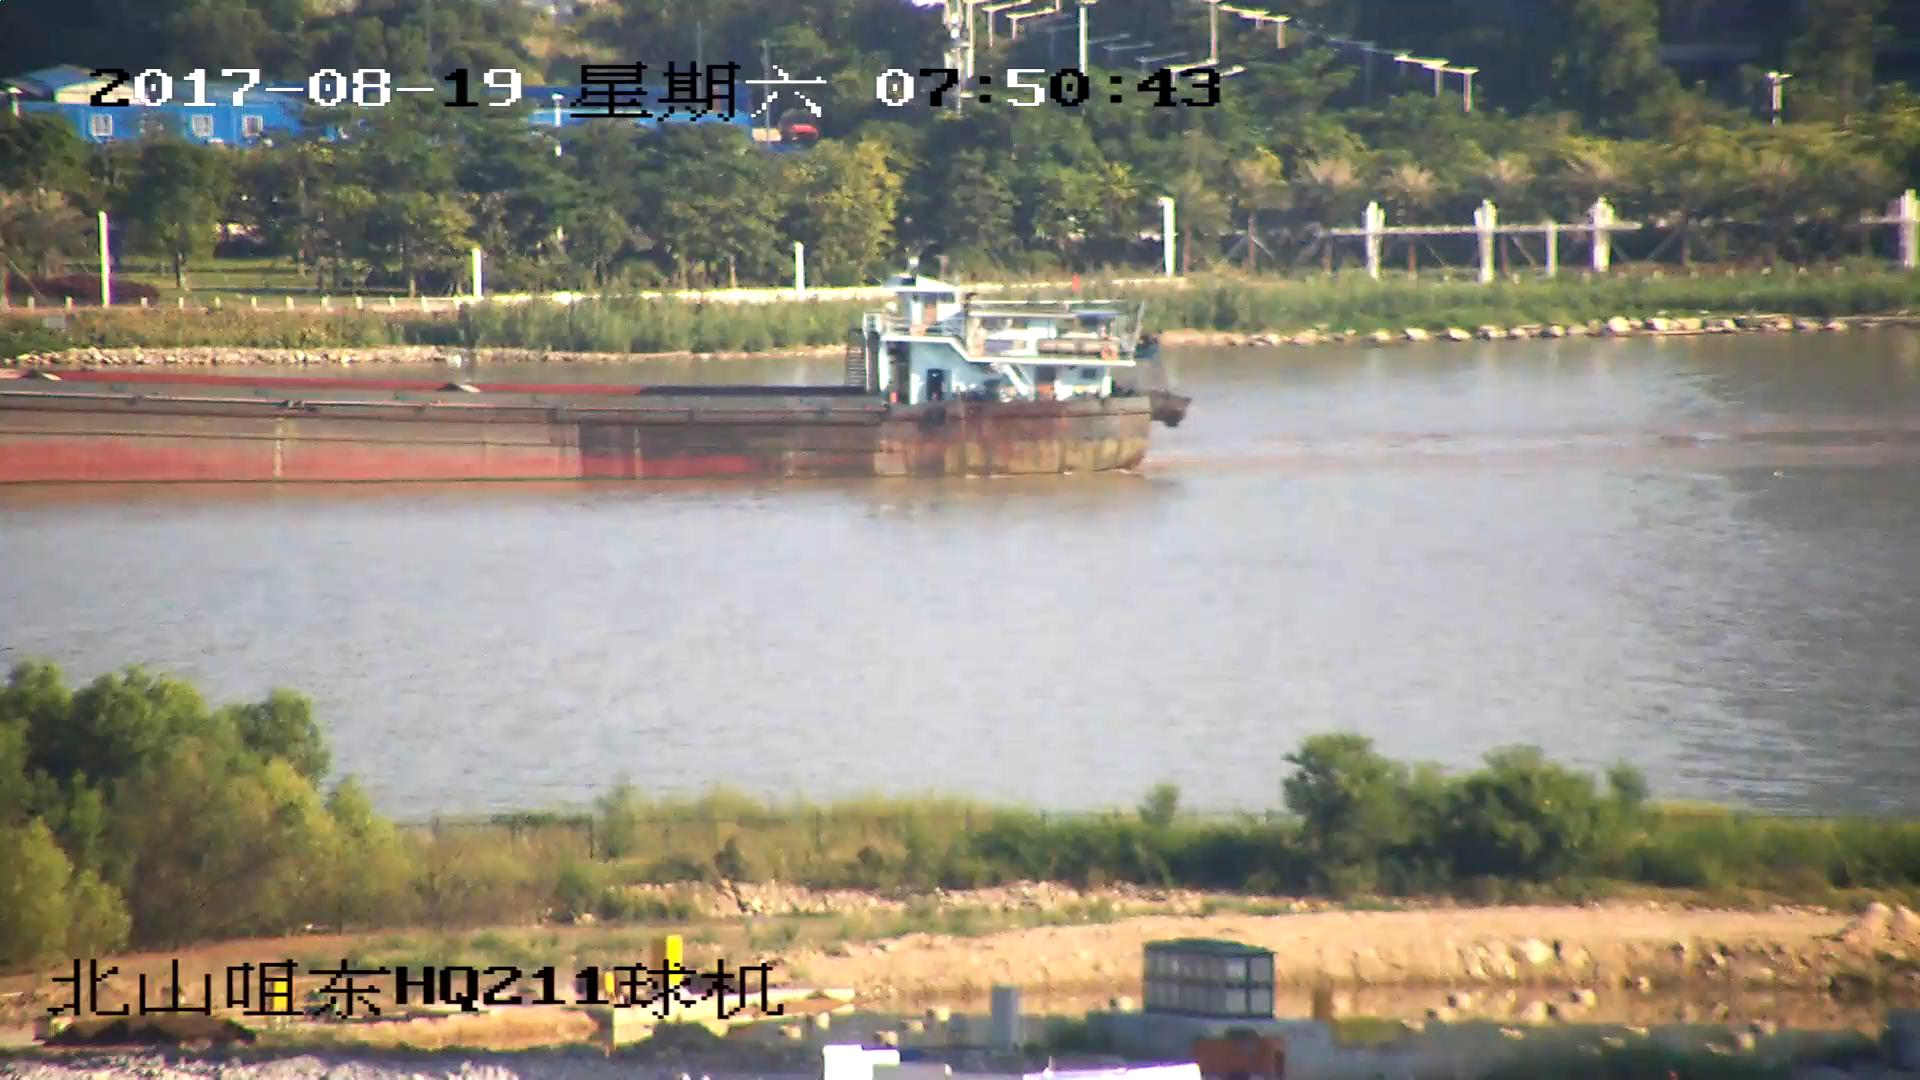bulk cargo carrier: (1, 259, 1190, 484)
